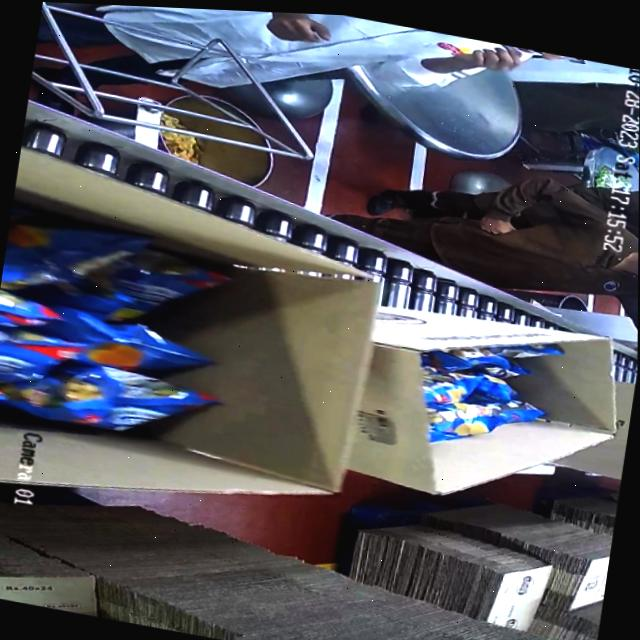PAPRIKA: (0, 217, 249, 476), (425, 325, 573, 476)
